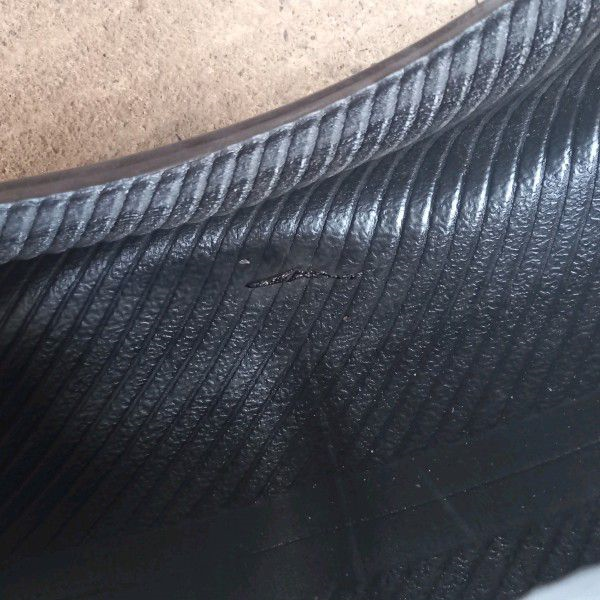CBU: (228, 261, 383, 299)
